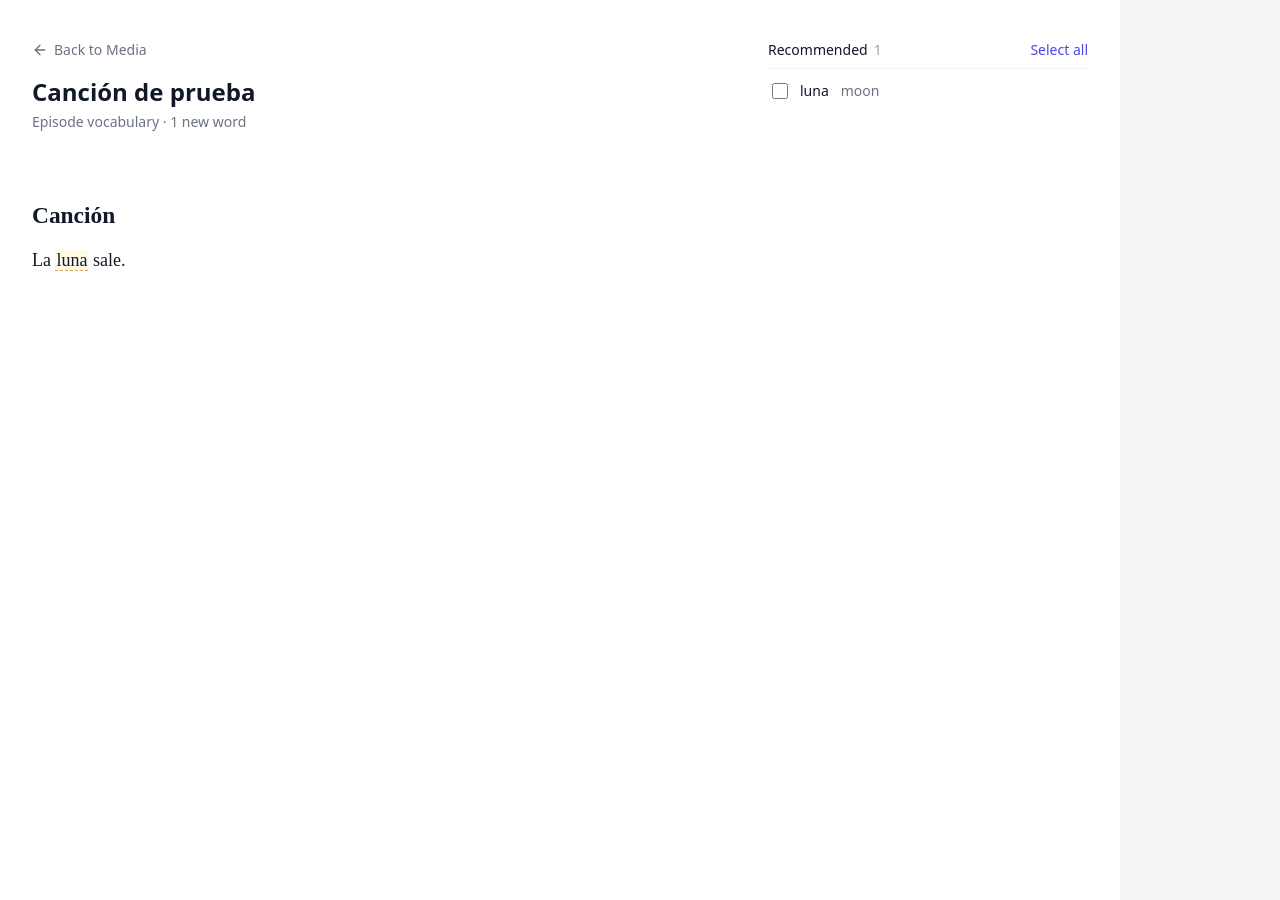
Scenario: shows the text beside the list, with its new words marked and pickable
Expected: the heading "Canción" is shown, [32, 202, 115, 228]
Click the button "luna" at (72, 260), box [56, 250, 88, 271]
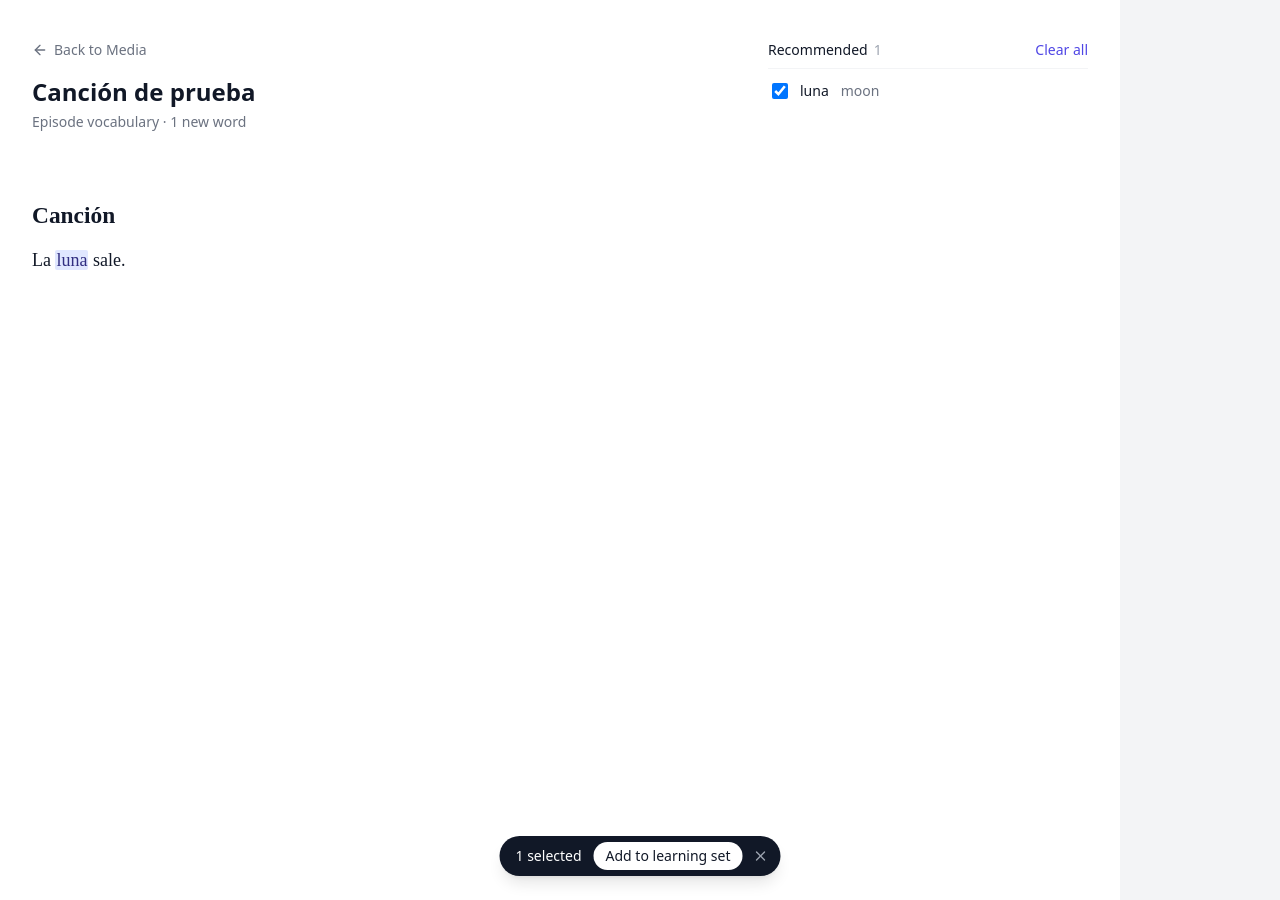
Result: the text "1 selected" is shown at [516, 846, 582, 866]
Result: the checkbox is checked at [772, 83, 788, 99]
